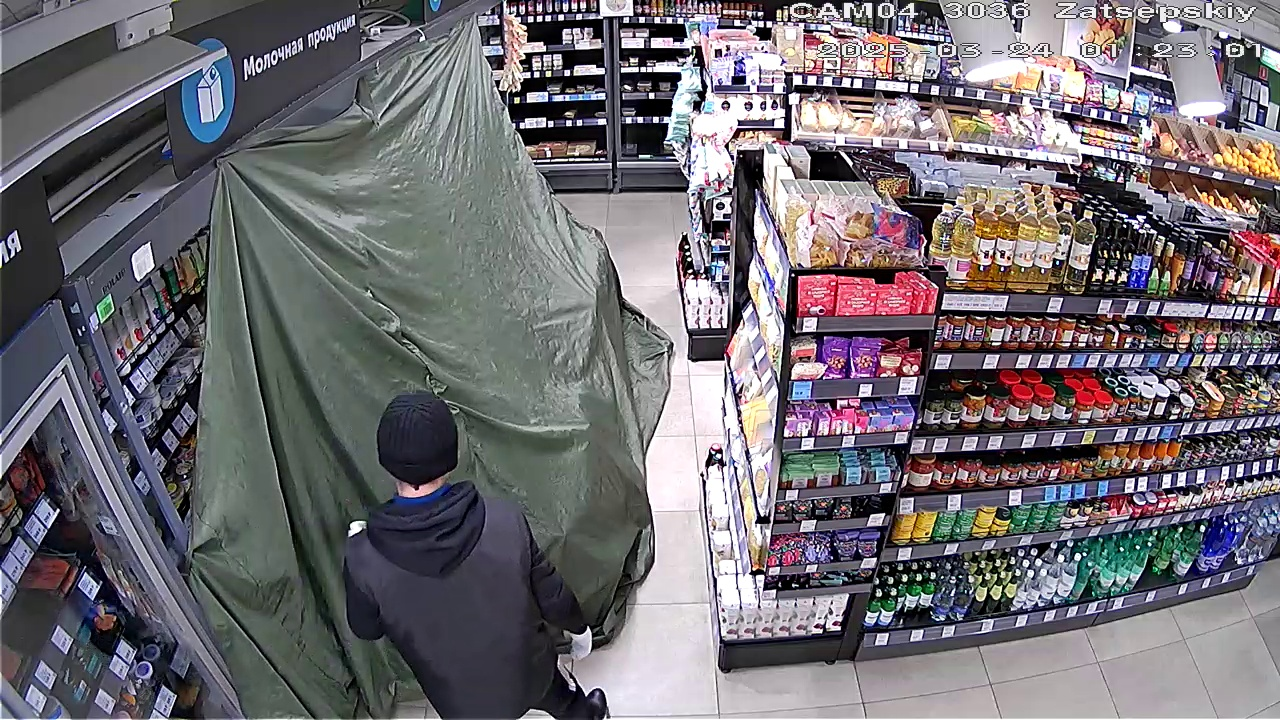Human: (348, 392, 604, 719)
dome: (199, 40, 664, 714)
